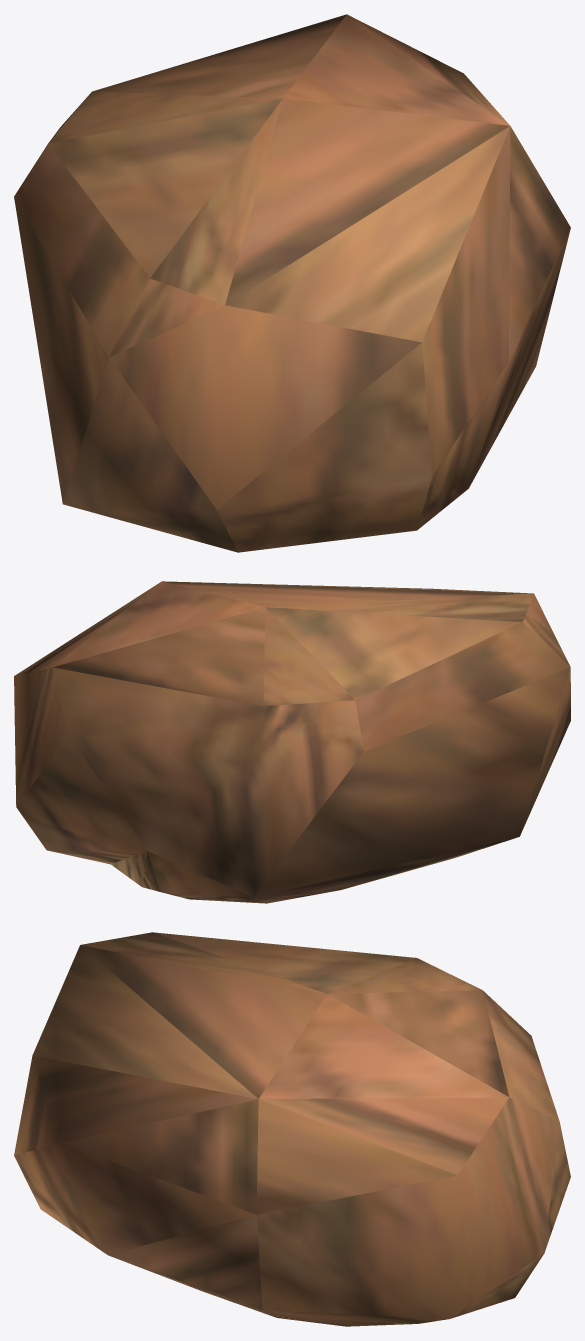
File: Rock_V2.glb
3 renders of one model, top to bottom at view 1: azimuth 30°, elevation 25°; view 2: azimuth 150°, elevation 25°; view 3: azimuth 270°, elevation 25°, orthographic. The views are drawn at different scales.
Visible parts, largest first — view 1: ROCK_V2; view 2: ROCK_V2; view 3: ROCK_V2.
Part boxes in pixels (x1,y1,x2,y2): ROCK_V2: (14, 14, 570, 552); ROCK_V2: (14, 581, 570, 903); ROCK_V2: (14, 932, 570, 1326).
Bounding box in the file's own units: 1.01 × 0.567 × 1.09.
1 material, 1 textured.
